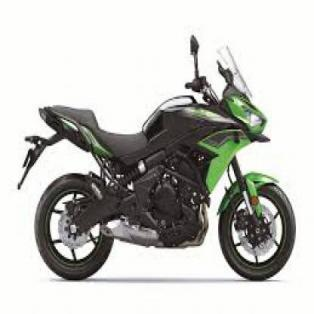Motocicleta: (16, 33, 297, 288)
